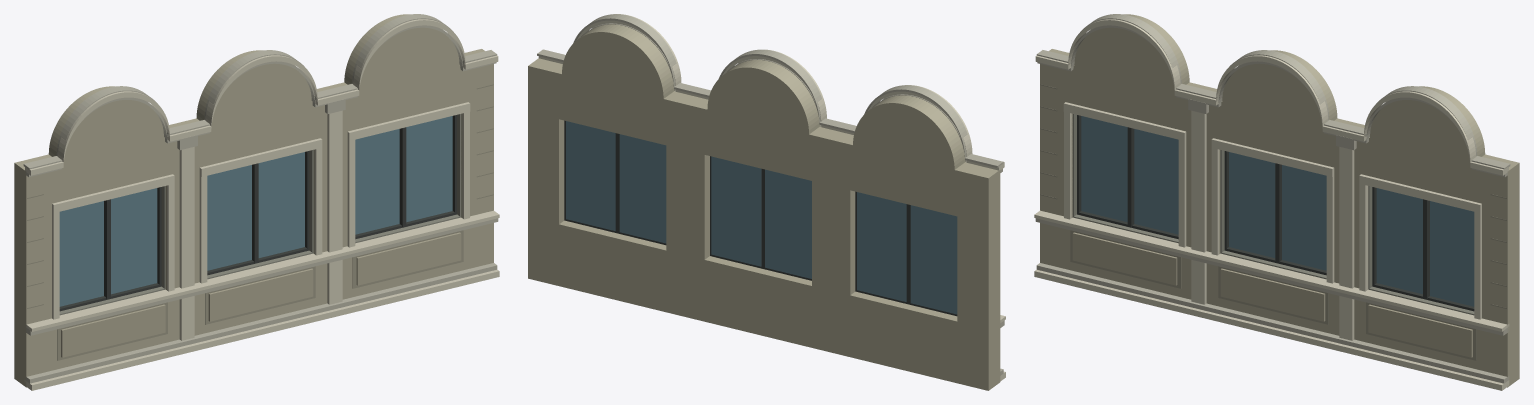
The model's file is changning-yang-garden-triple-parapet-full.glb.
The picture shows the model from 3 angles, left to right: view 1: azimuth 30°, elevation 25°; view 2: azimuth 150°, elevation 25°; view 3: azimuth 330°, elevation 25°; orthographic projection.
Visible parts, largest first — view 1: 杨氏花园南立面三弧山花与双扇窗; view 2: 杨氏花园南立面三弧山花与双扇窗; view 3: 杨氏花园南立面三弧山花与双扇窗.
Boxes of the visible parts, x1,y1,x2,y2 form: 杨氏花园南立面三弧山花与双扇窗: (14, 14, 499, 390); 杨氏花园南立面三弧山花与双扇窗: (528, 14, 1005, 390); 杨氏花园南立面三弧山花与双扇窗: (1034, 14, 1519, 390).
Bounding box in the file's own units: 6.74 × 3.82 × 0.441.
